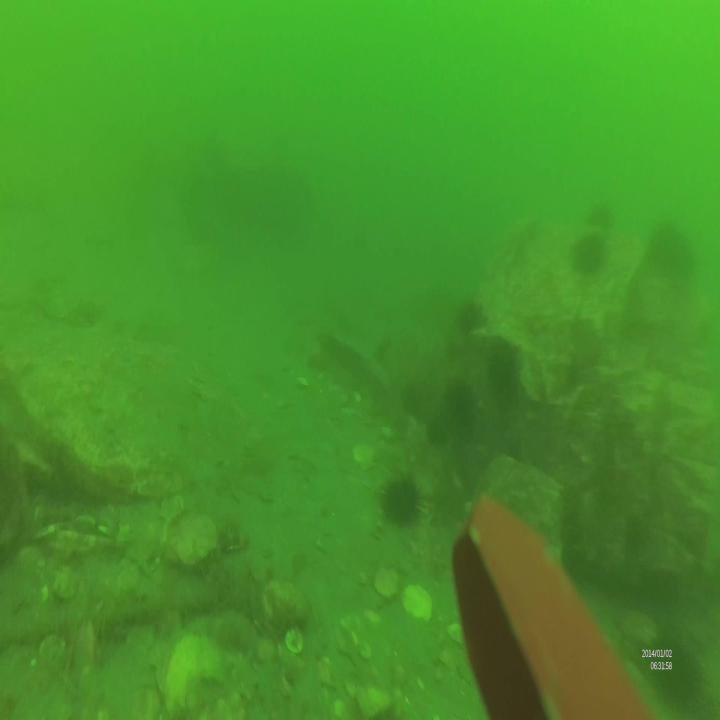echinus: (379, 471, 423, 528), (443, 378, 476, 432), (571, 232, 606, 272), (425, 411, 451, 448)
scallop: (402, 582, 434, 624)
